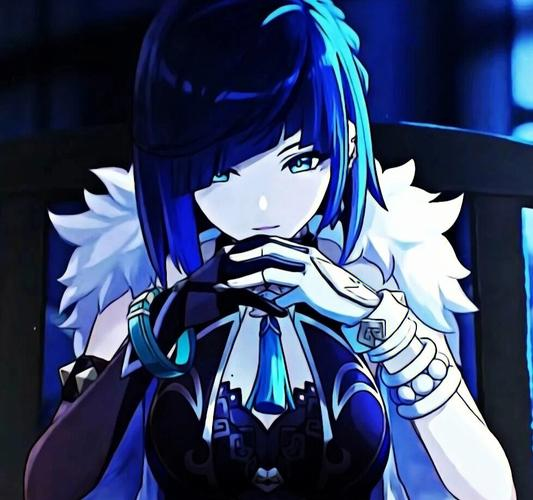夜兰: (24, 2, 519, 500)
